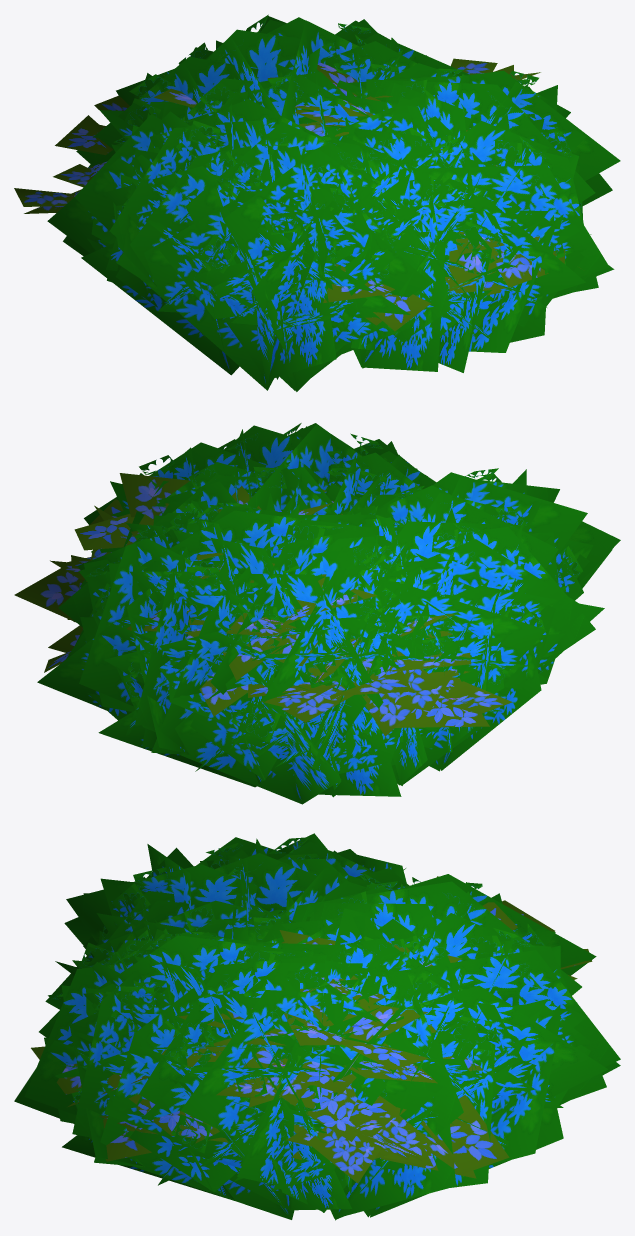
The model's file is Homeworld_Exterior_Xm_Build_House_03_02_Lod0.fbx.
The picture shows the model from 3 angles, top to bottom: view 1: azimuth 30°, elevation 25°; view 2: azimuth 150°, elevation 25°; view 3: azimuth 270°, elevation 25°; orthographic projection. The views are drawn at different scales.
Visible parts, largest first — view 1: Homeworld_Exterior_Xm_Build_House_03_02_Lod0; view 2: Homeworld_Exterior_Xm_Build_House_03_02_Lod0; view 3: Homeworld_Exterior_Xm_Build_House_03_02_Lod0.
Boxes of the visible parts, left/top/right/bottom form: Homeworld_Exterior_Xm_Build_House_03_02_Lod0: left=14, top=14, right=620, bottom=391; Homeworld_Exterior_Xm_Build_House_03_02_Lod0: left=14, top=423, right=620, bottom=804; Homeworld_Exterior_Xm_Build_House_03_02_Lod0: left=14, top=833, right=620, bottom=1220.
Size of the model in its own units: 4.01 by 2.31 by 4.04.
